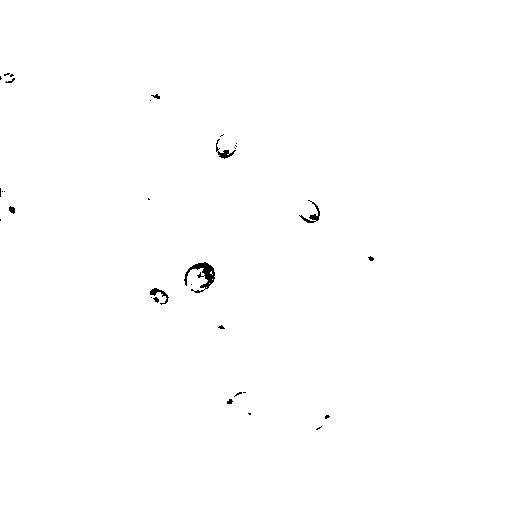micro-algae: (123, 185, 162, 222), (351, 241, 389, 275), (184, 260, 216, 293), (231, 389, 265, 420), (301, 405, 335, 431), (489, 393, 512, 429), (294, 197, 322, 225), (214, 131, 239, 161), (1, 191, 25, 221), (148, 286, 169, 305), (205, 195, 221, 215), (1, 72, 16, 85)
